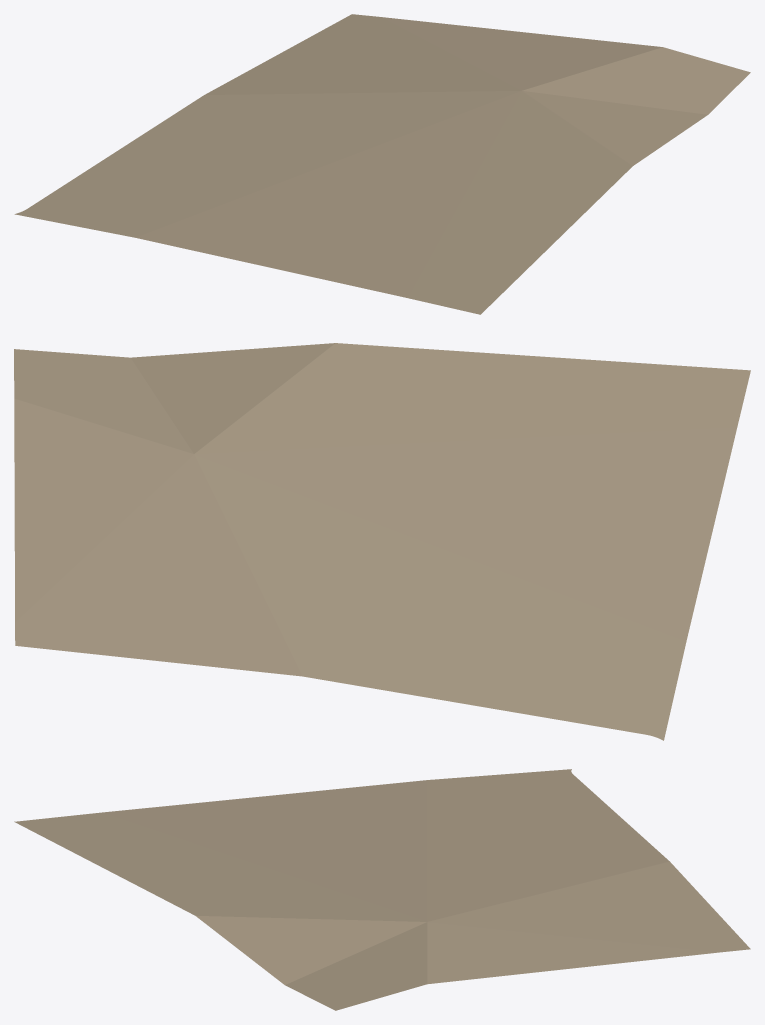
Rendered from farm_-32_-21_soil.glb.
3 views of the same model, one above another, from view 1: azimuth 30°, elevation 25°; view 2: azimuth 150°, elevation 25°; view 3: azimuth 270°, elevation 25° (orthographic). The views are drawn at different scales.
Visible parts, largest first — view 1: geometry_0; view 2: geometry_0; view 3: geometry_0.
Boxes of the visible parts, left/top/right/bottom form: geometry_0: left=14, top=14, right=750, bottom=314; geometry_0: left=14, top=343, right=750, bottom=740; geometry_0: left=14, top=769, right=750, bottom=1010.
Bounding box in the file's own units: 98.87 × 11.6 × 96.98.
